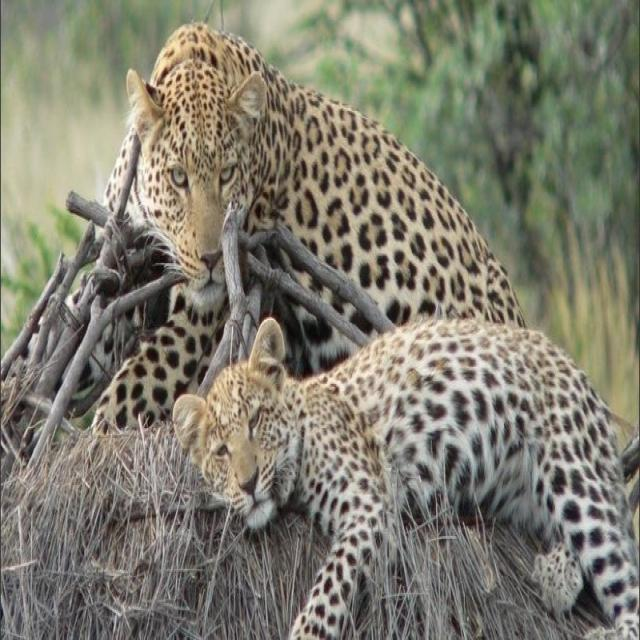Leopard: (93, 30, 523, 433), (171, 313, 640, 640)
